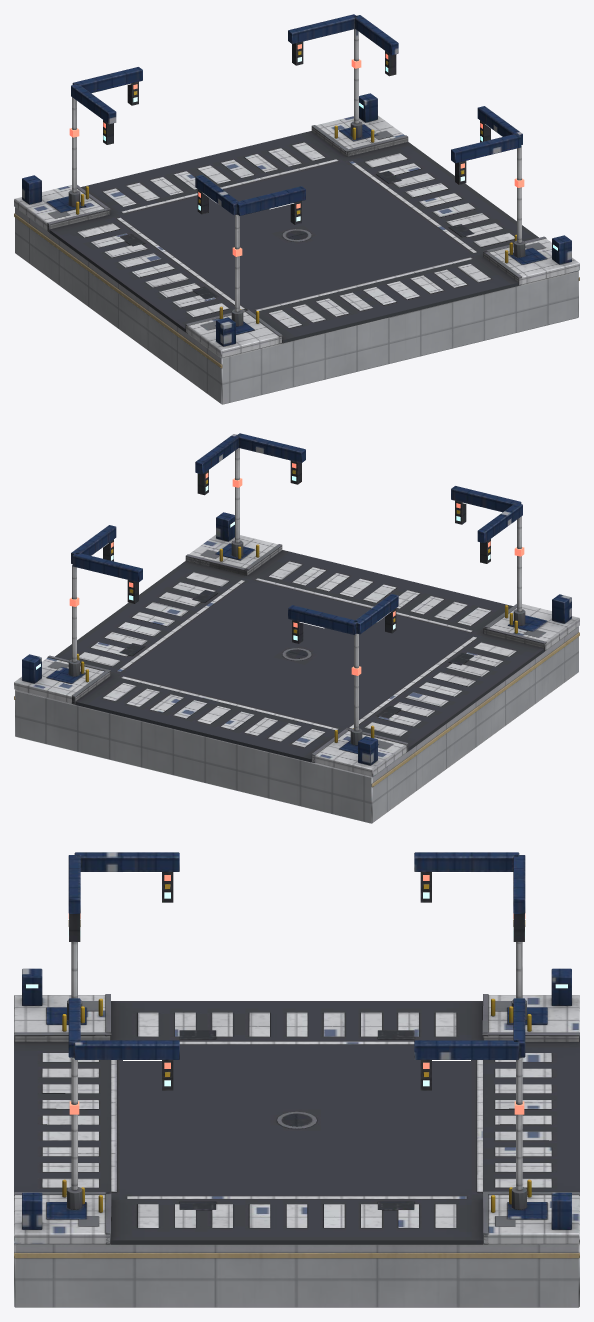
The model's file is 重製_十字路口.glb.
3 renders of one model, top to bottom at view 1: azimuth 30°, elevation 25°; view 2: azimuth 150°, elevation 25°; view 3: azimuth 270°, elevation 25°, orthographic. The views are drawn at different scales.
Visible parts, largest first — view 1: Road_x_Mesh; view 2: Road_x_Mesh; view 3: Road_x_Mesh.
Part boxes in pixels (box(x1,y1,x2,y2)): Road_x_Mesh: box(14, 14, 579, 404); Road_x_Mesh: box(14, 433, 579, 823); Road_x_Mesh: box(14, 852, 579, 1307).
Size of the model in its own units: 14 by 6.57 by 14.
4 materials, 1 textured.
